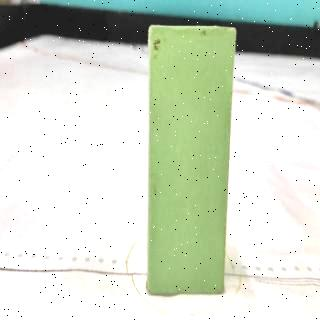greenbox: (145, 26, 230, 294)
